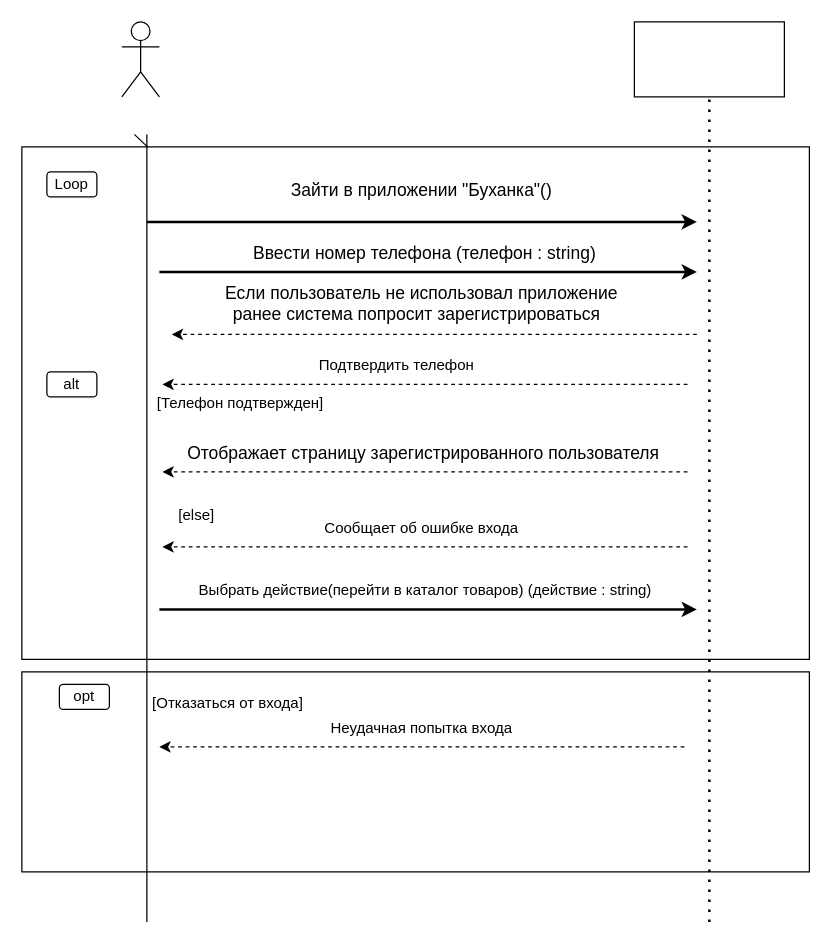
Image size: 831x946. Some labels were removed from this diagram. The shapes that lost their labels are listed below. From the top down, each one's centre as x and y in pixels, then its label:
At point 140,59: "Пользователь".
At point 708,59: "Система".
